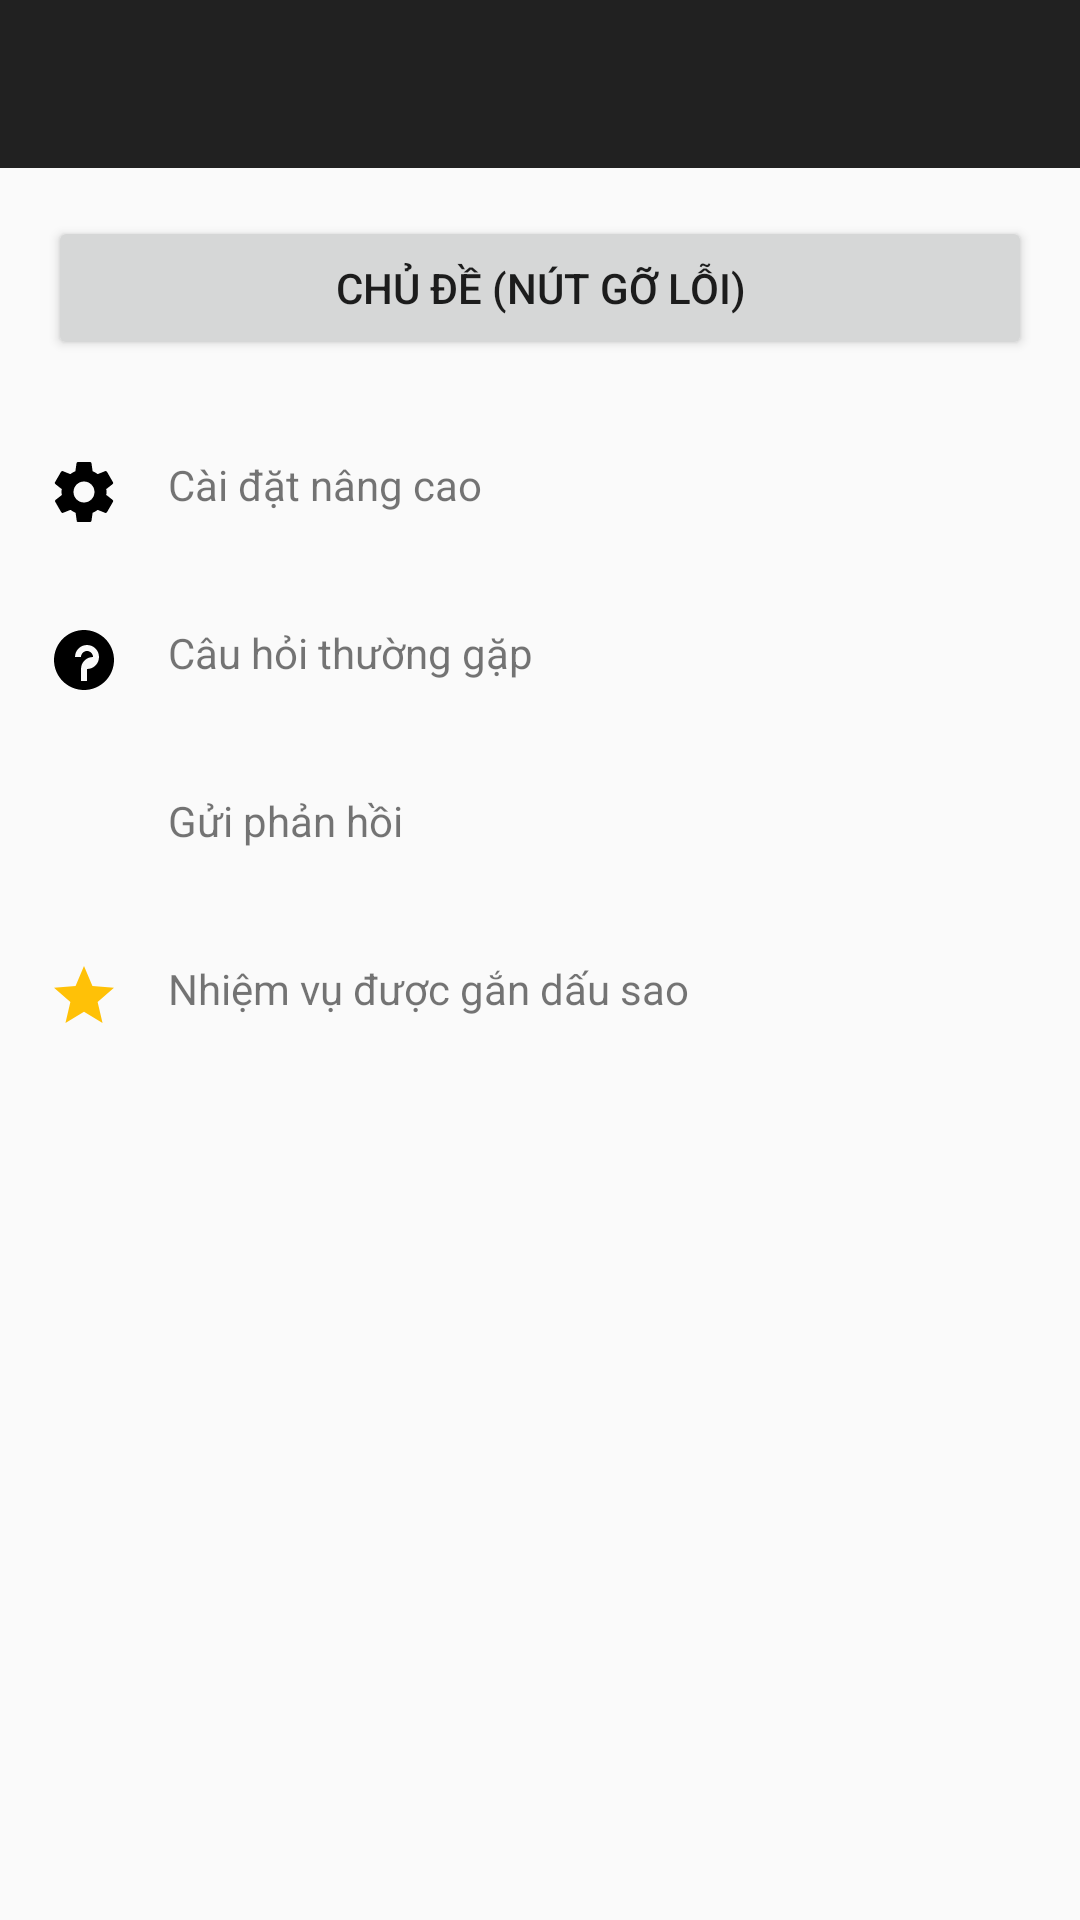

Where icons sit on this 1080×1920 app screen, as (x1,y1,x2,y2):
faq: (54,630,114,690)
settings: (54,462,113,522)
star: (54,966,114,1023)
